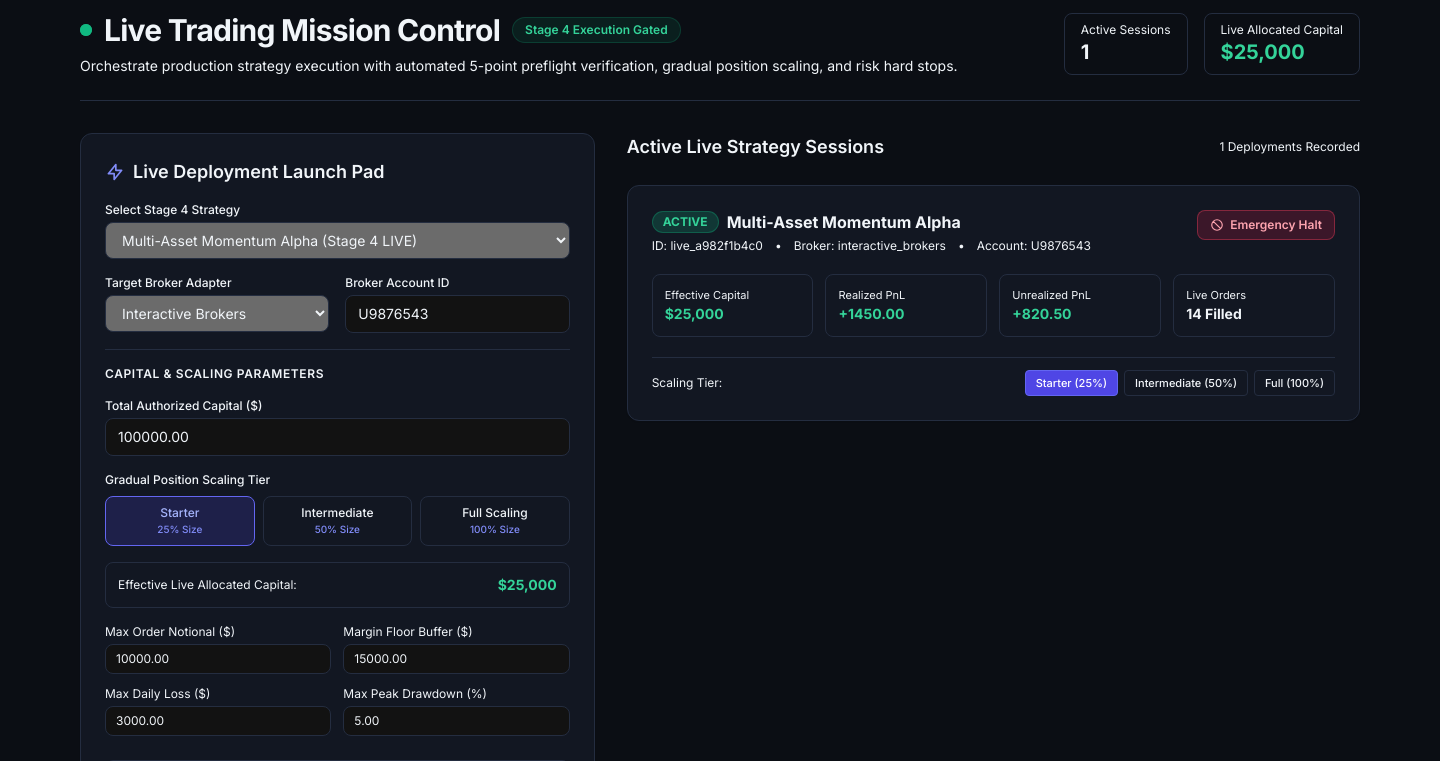
Scenario: LiveTradingConsolePage › handles emergency halt on active live session
This screenshot has width=1440, height=761.
Expected: the text "Emergency Halt" is shown, [1230,217,1322,233]
Click the button "Emergency Halt" at (1266, 225), box [1197,210,1335,240]
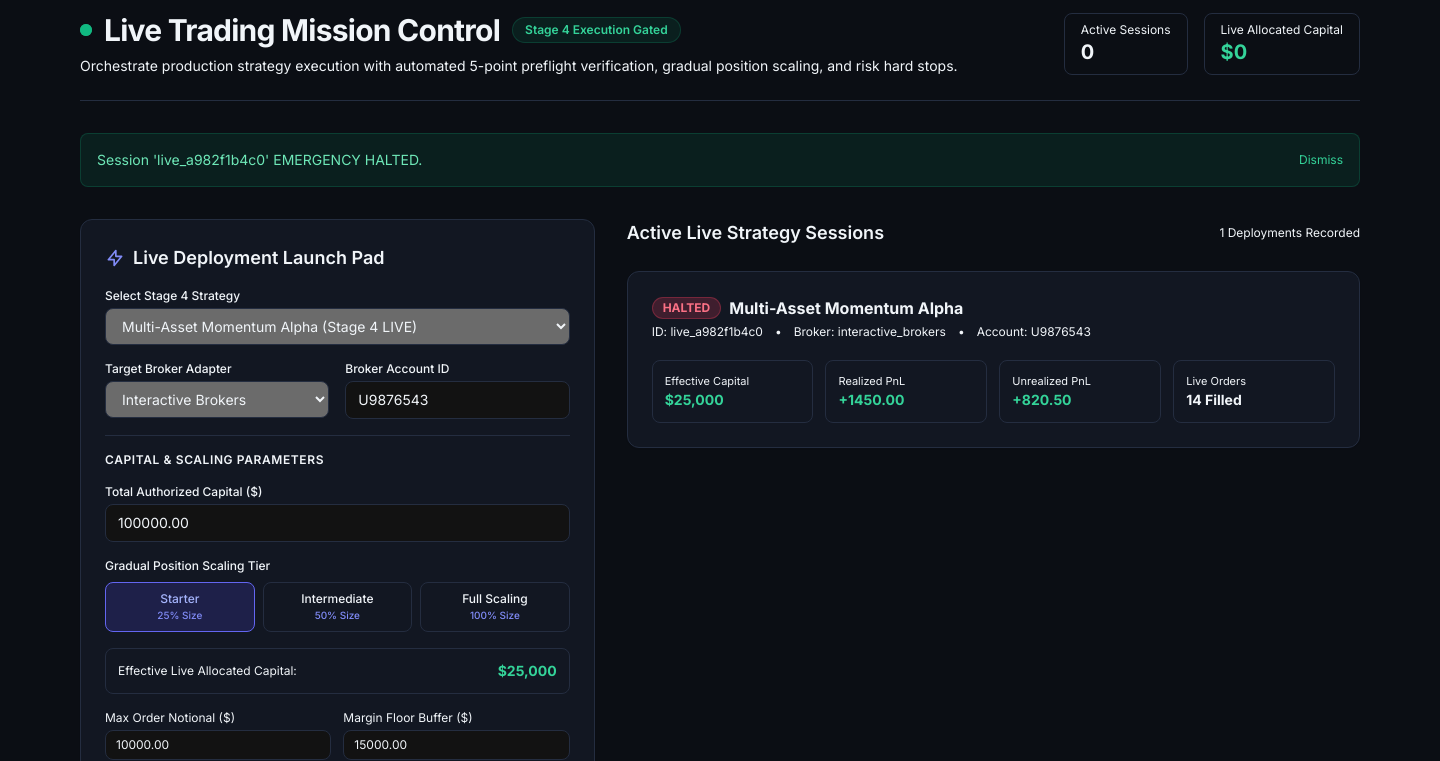
Expected: the text "Session 'live_a982f1b4c0' EMERGENCY HALTED." is shown, [97,150,422,170]
